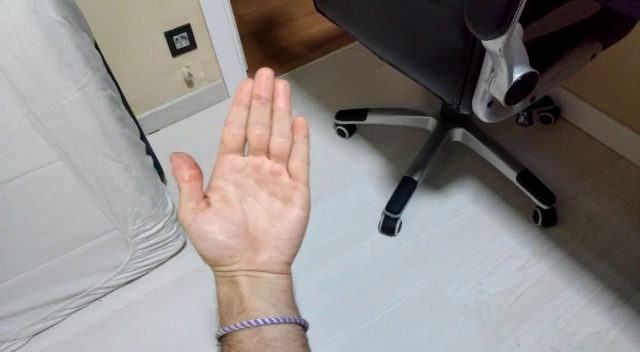Palm: (166, 65, 317, 292)
